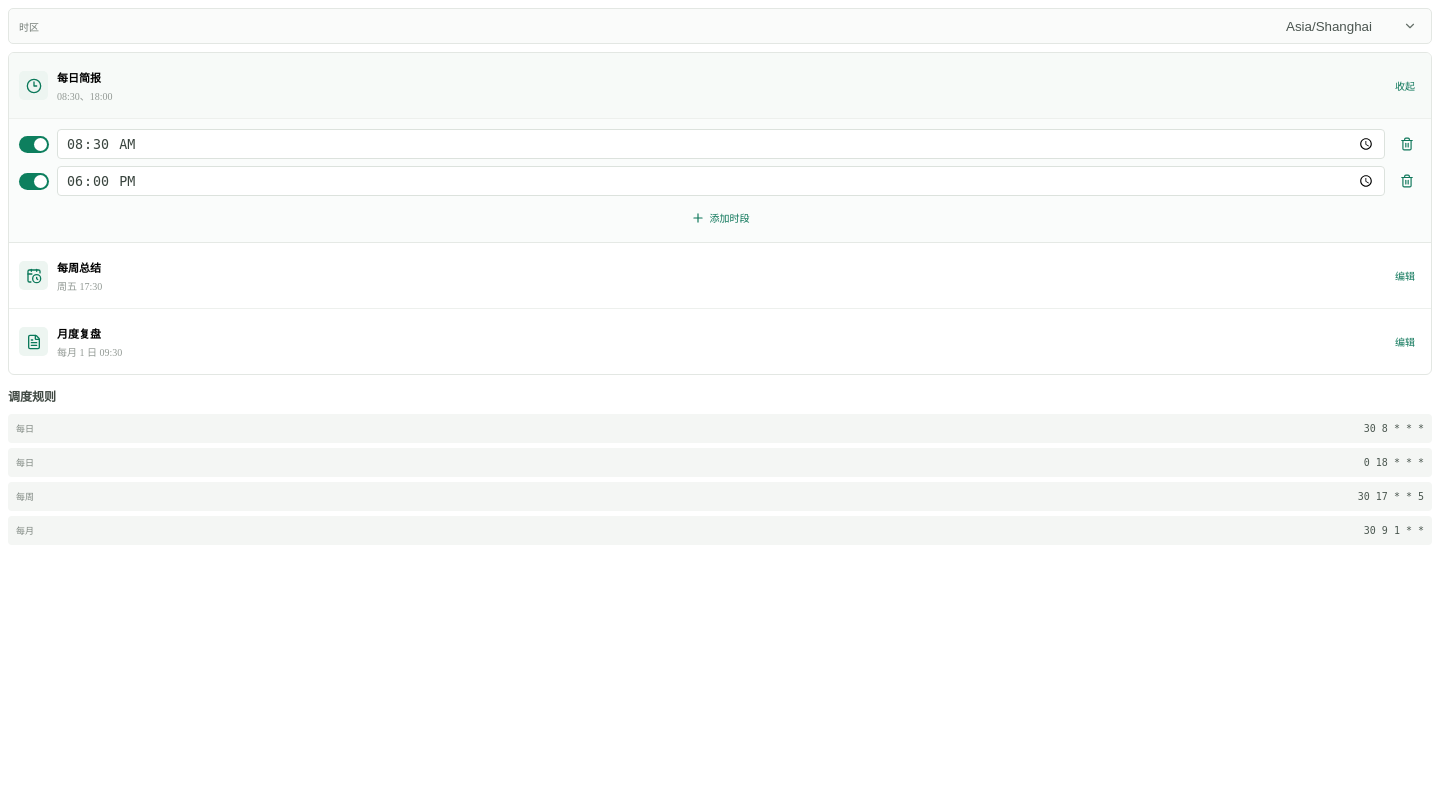
Test case: NewsScheduleEditor › adds daily slots and renders cron expressions from the schedule contract
Click the button "添加时段" at (720, 218), box [19,203,1421,232]
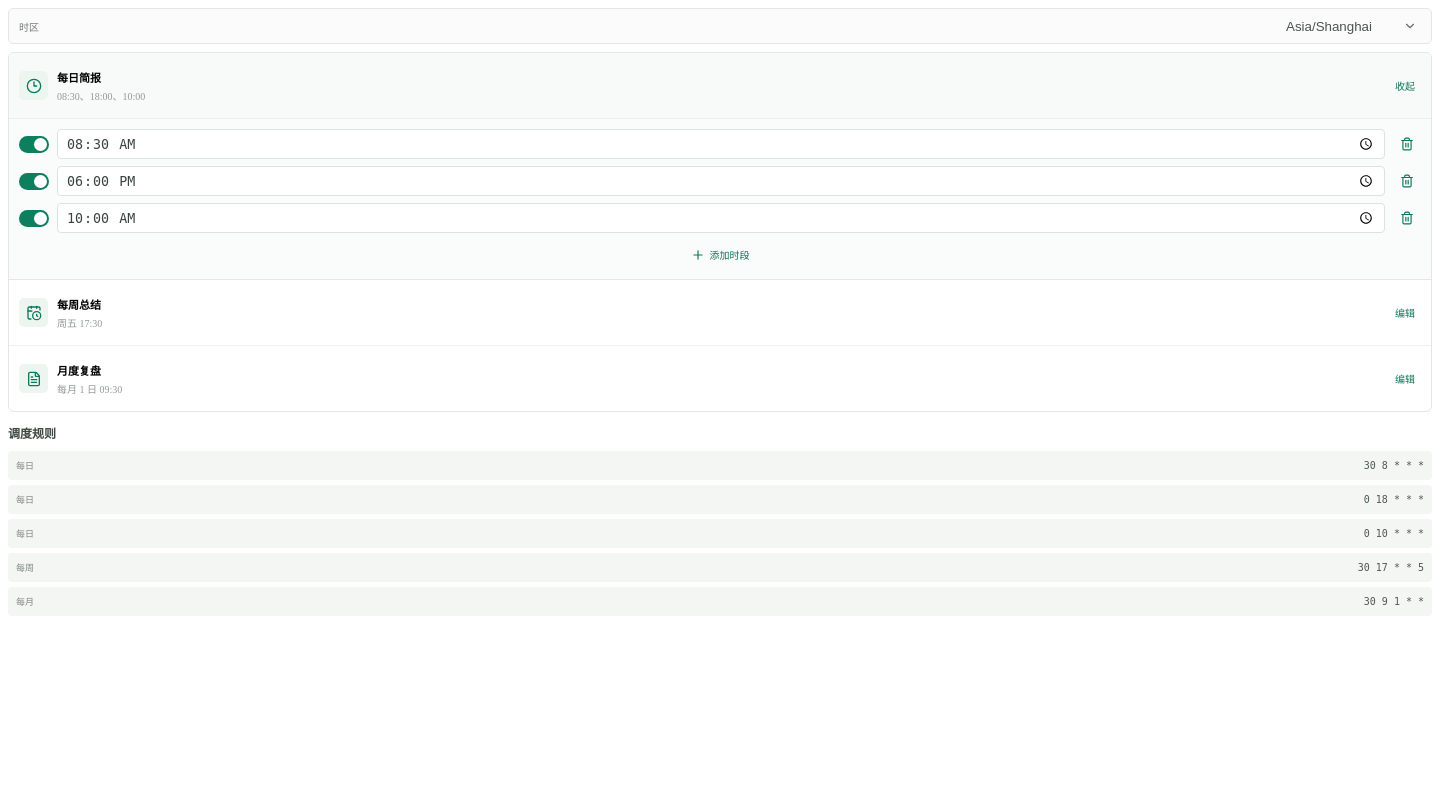
Result: the number of time fields named "每日时段" is 3 at [57,129,1385,159]; [57,166,1385,196]; [57,203,1385,233]
Result: the text "0 10 * * *" is shown at [1364,528,1424,539]
